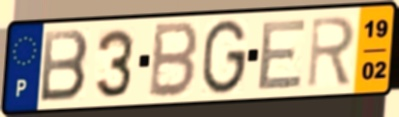3: (94, 26, 137, 100)
B: (146, 20, 202, 100), (38, 27, 91, 104)
E: (255, 16, 310, 93)
G: (199, 18, 250, 97)
R: (305, 14, 358, 91)
